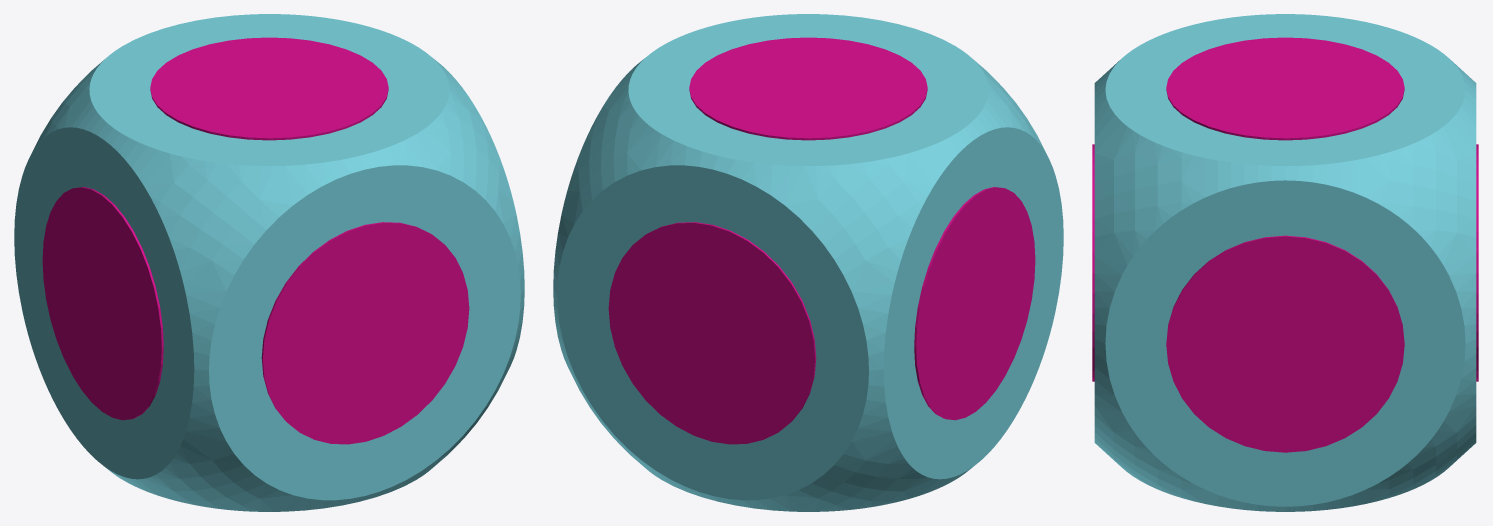
File: tinker.obj
3 views of the same model, side by side, from view 1: azimuth 30°, elevation 25°; view 2: azimuth 150°, elevation 25°; view 3: azimuth 270°, elevation 25° (orthographic).
Parts seen in each view (by area): view 1: group_7720667, group_14093196; view 2: group_7720667, group_14093196; view 3: group_7720667, group_14093196.
Boxes of the visible parts, x1,y1,x2,y2 form: group_7720667: (14,14,524,511); group_14093196: (42,37,469,444); group_7720667: (553,14,1063,511); group_14093196: (608,37,1035,444); group_7720667: (1094,14,1476,511); group_14093196: (1092,37,1478,452).
Size of the model in its own units: 16.2 by 16.2 by 16.2.
